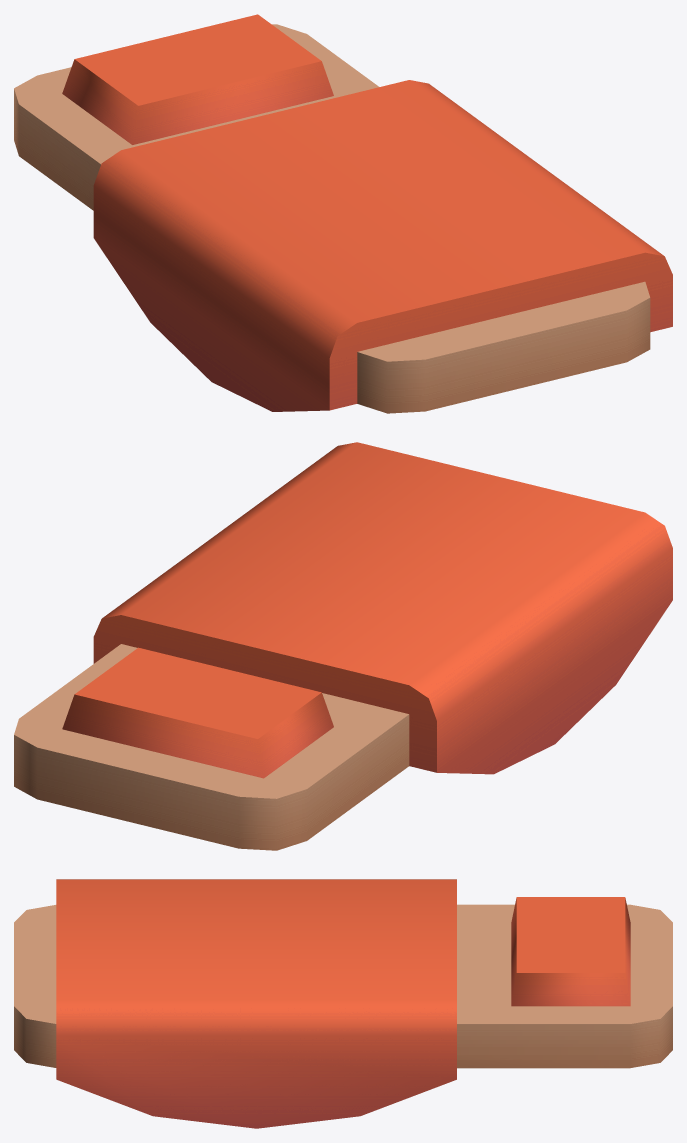
The model's file is bedroll.glb.
3 renders of one model, top to bottom at view 1: azimuth 30°, elevation 25°; view 2: azimuth 150°, elevation 25°; view 3: azimuth 270°, elevation 25°, orthographic. The views are drawn at different scales.
Parts seen in each view (by area): view 1: bedroll; view 2: bedroll; view 3: bedroll.
Part boxes in pixels (left/top/right/bottom): bedroll: left=14, top=14, right=672, bottom=413; bedroll: left=14, top=442, right=672, bottom=850; bedroll: left=14, top=879, right=672, bottom=1128.
Bounding box in the file's own units: 0.3104 × 0.1248 × 0.6076.
Materials: 1 (1 with a texture image).
